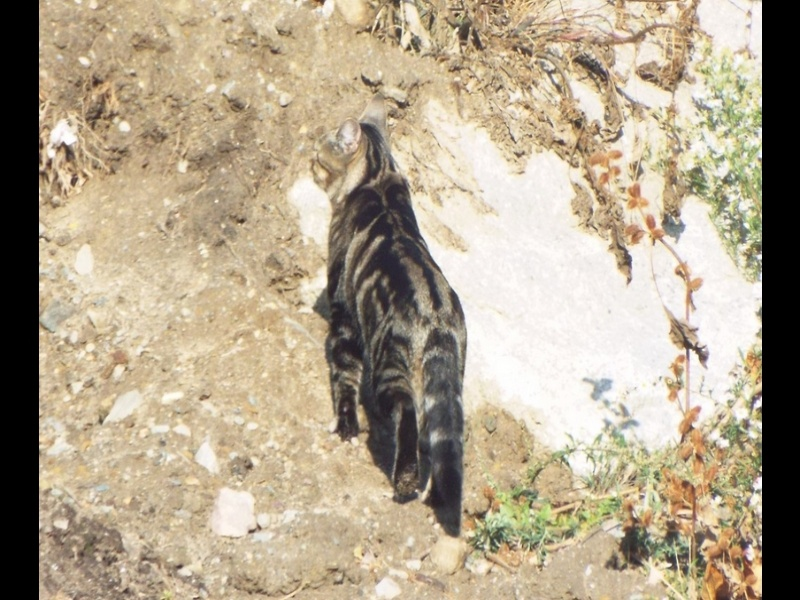cat: (302, 91, 472, 542)
